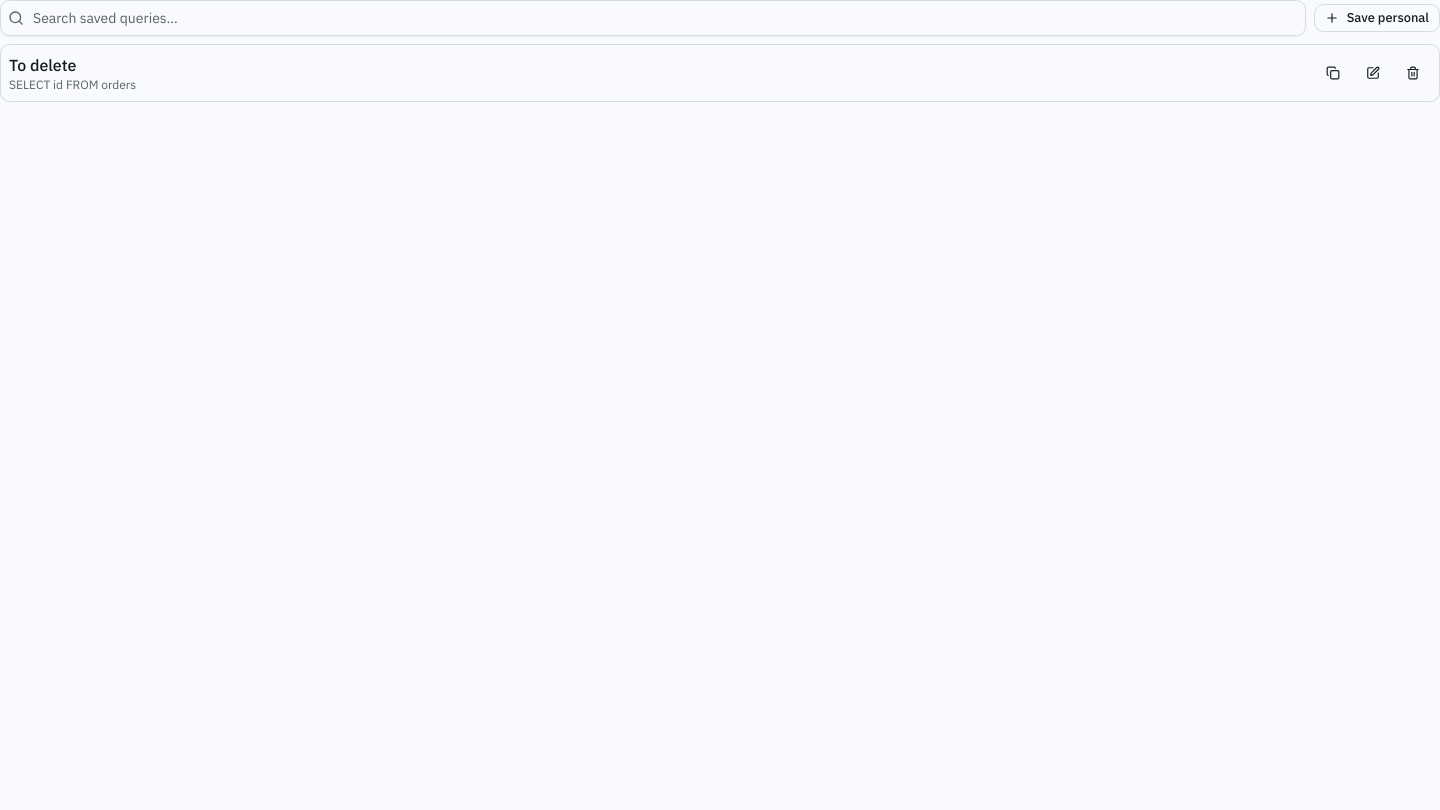
Test: QuerySavedStatements › opens delete confirmation with item name
The width and height of the screenshot is (1440, 810).
Check: the text "To delete" is shown, box [9, 53, 76, 77]
Click the button named "delete to delete": (1413, 73) [1395, 59, 1431, 87]
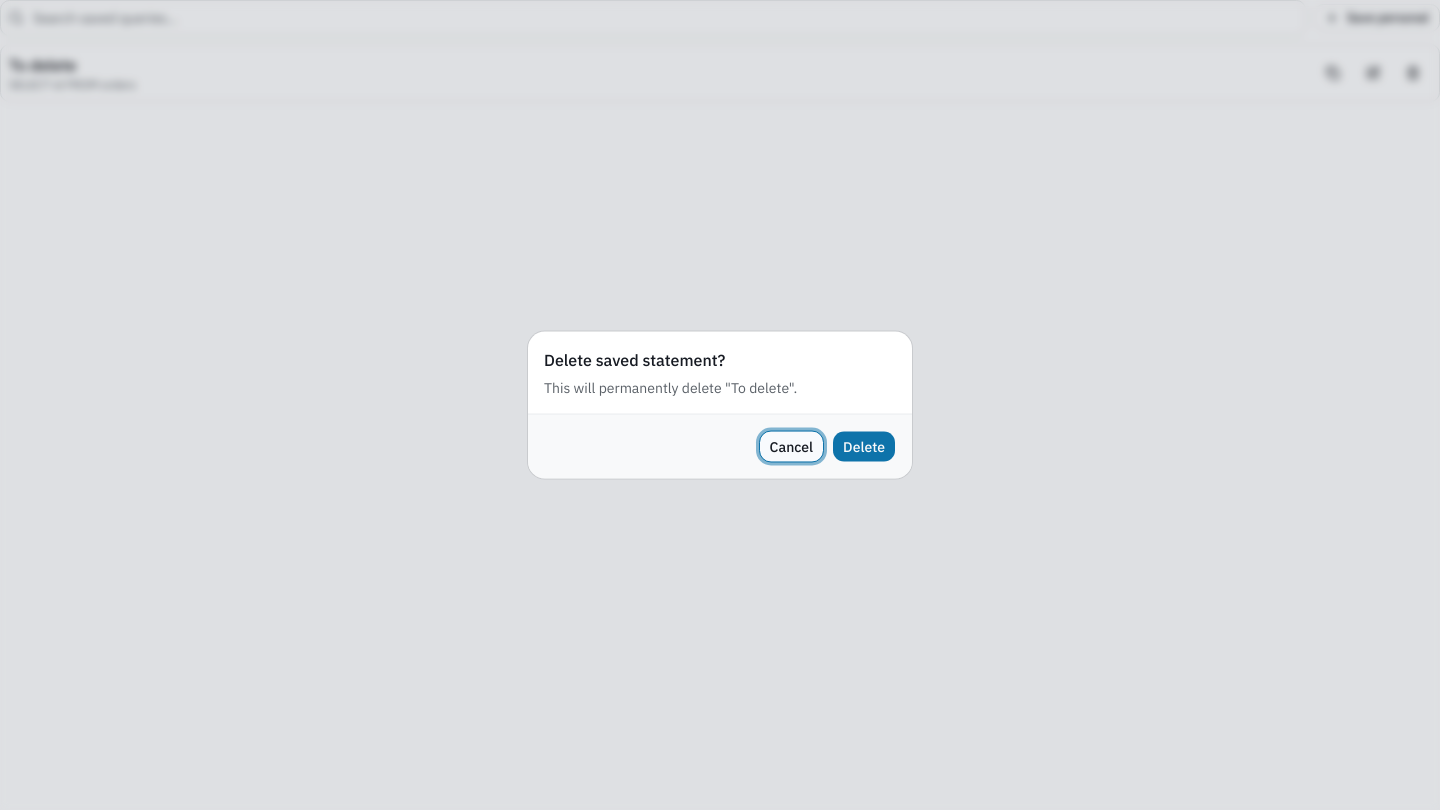
Check: the text "This will permanently delete \"To delete\"." is shown, box [544, 378, 797, 398]
